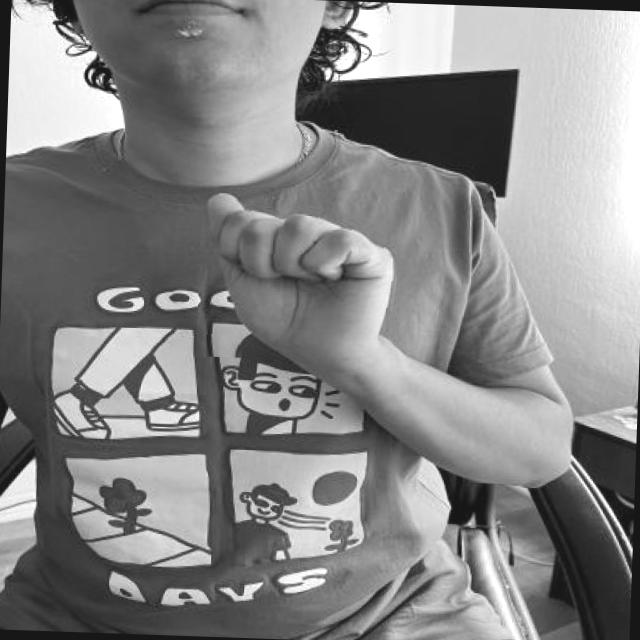A: (196, 185, 404, 364)
